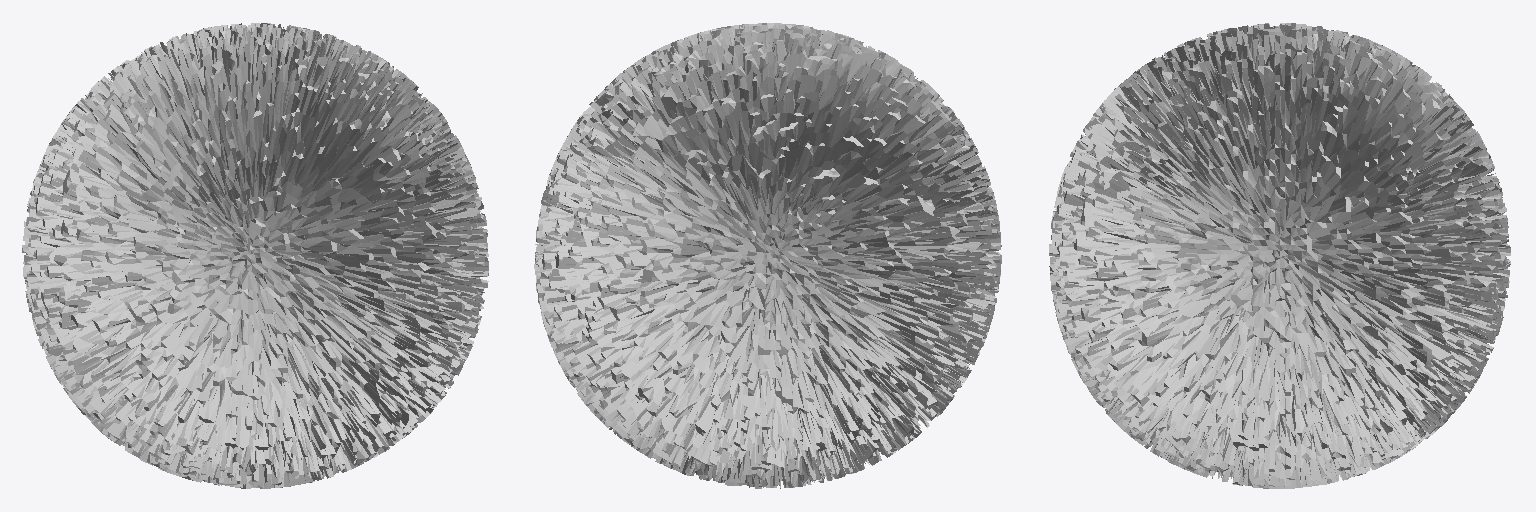
The model's file is spiked_orb.obj.
3 views of the same model, side by side, from view 1: azimuth 30°, elevation 25°; view 2: azimuth 150°, elevation 25°; view 3: azimuth 270°, elevation 25° (orthographic).
Visible parts, largest first — view 1: Cube; view 2: Cube; view 3: Cube.
Part boxes in pixels (x1,y1,x2,y2): Cube: (22,23,488,488); Cube: (534,23,1001,488); Cube: (1049,23,1510,488).
Size of the model in its own units: 2.68 by 2.68 by 2.68.